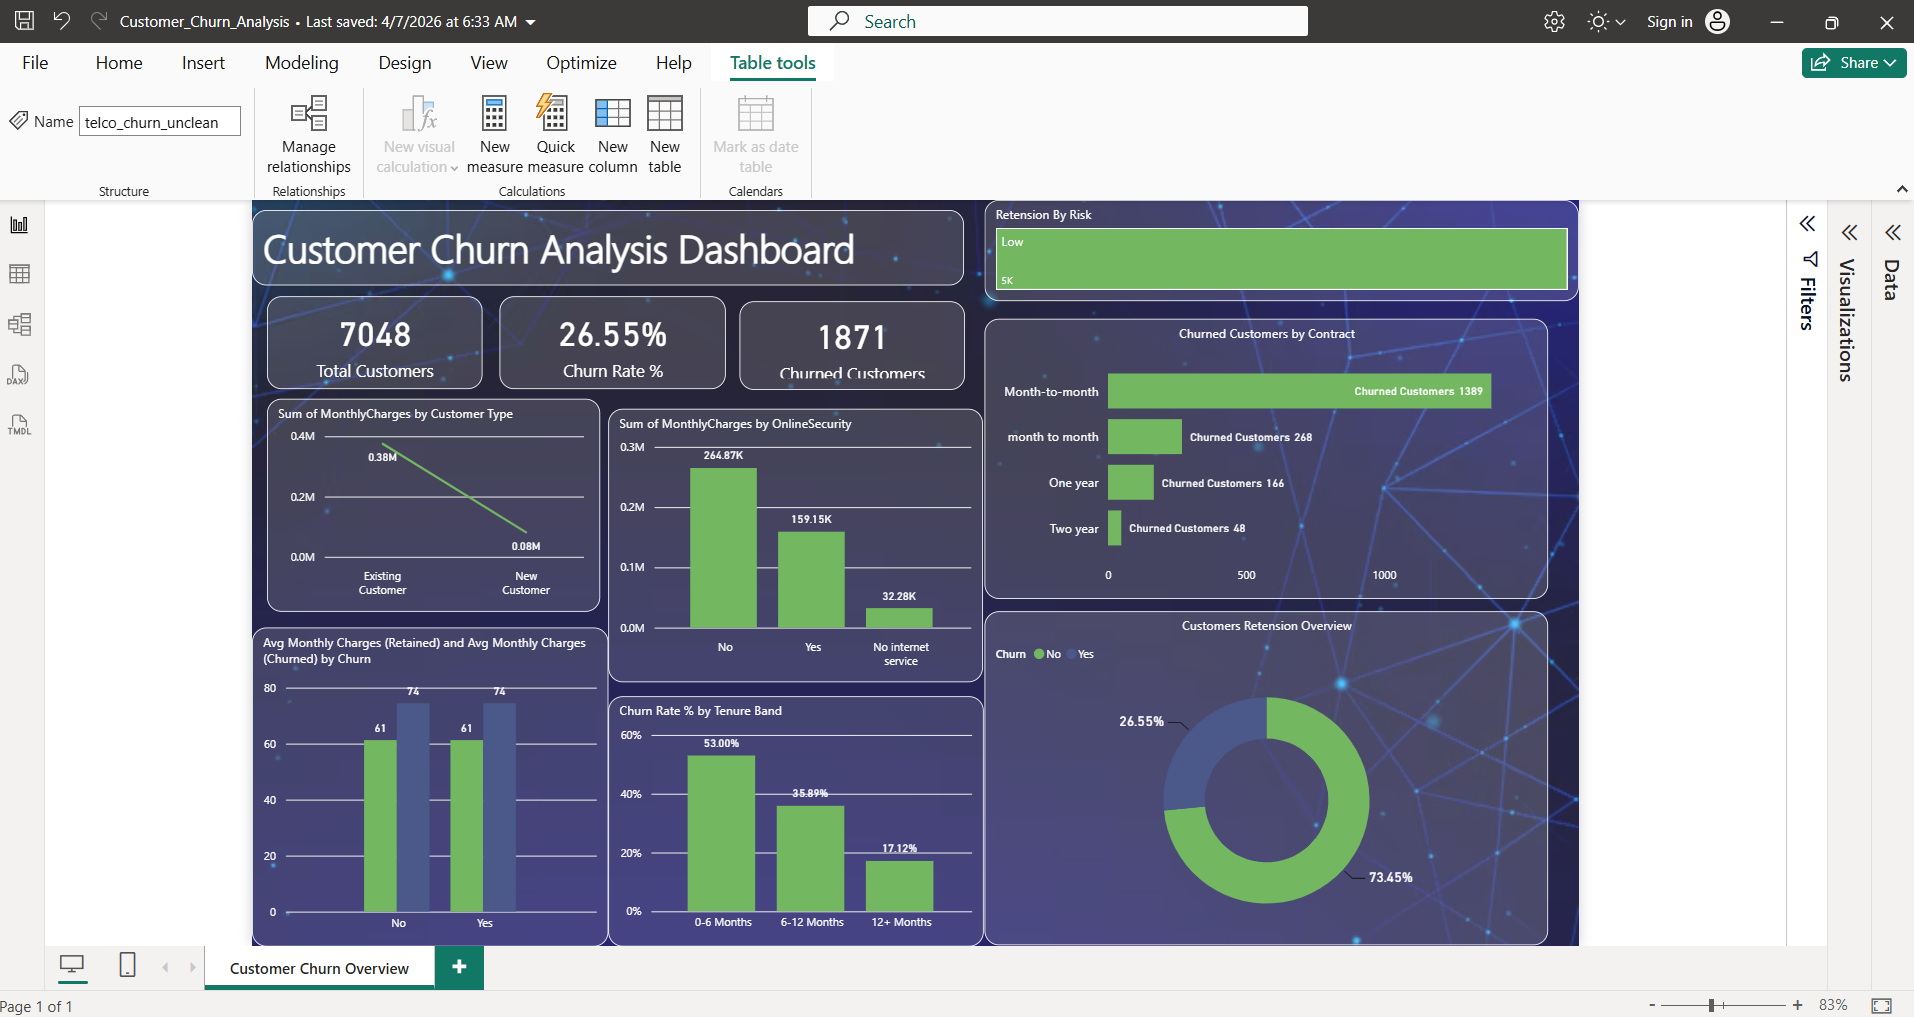

What the dashboard file says about the page in this screenshot:
{"tool":"powerbi","page":{"name":"Page 1","canvas":[1280,720],"ordinal":0},"visuals":[{"type":"textbox","box":[0,9.6,687.5,72.7],"z":0},{"type":"card","fields":{"Values":["Calculated Measure.Total Customers"]},"box":[14.7,93.3,208,89.3],"z":2},{"type":"card","fields":{"Values":["Calculated Measure.Churn Rate %"]},"box":[238.7,93.3,218.7,89.3],"z":3},{"type":"card","fields":{"Values":["Calculated Measure.Churned Customers"]},"box":[470.7,97.3,217.3,85.3],"z":4},{"type":"donutChart","title":"Customers Retension Overview","fields":{"Category":["telco_churn_unclean.Churn"],"Y":["Calculated Measure.Total Customers"]},"box":[706.7,397.3,544,322.7],"z":5},{"type":"barChart","fields":{"Category":["telco_churn_unclean.Contract"],"Y":["Calculated Measure.Churned Customers"]},"box":[706.7,114.7,544,270.7],"z":6},{"type":"columnChart","fields":{"Category":["telco_churn_unclean.OnlineSecurity"],"Y":["Sum(telco_churn_unclean.MonthlyCharges)"]},"box":[344,201.3,361.3,264],"z":7},{"type":"columnChart","fields":{"Category":["telco_churn_unclean.Tenure Band"],"Y":["Calculated Measure.Churn Rate %"]},"box":[344,478.7,362.7,241.3],"z":8},{"type":"clusteredColumnChart","fields":{"Category":["telco_churn_unclean.Churn"],"Y":["Calculated Measure.Avg Monthly Charges (Retained)","Calculated Measure.Avg Monthly Charges (Churned)"]},"box":[0,412,344,308],"z":9},{"type":"lineChart","fields":{"Category":["telco_churn_unclean.Customer Type"],"Y":["Sum(telco_churn_unclean.MonthlyCharges)"]},"box":[14.7,192,321.3,205.3],"z":10},{"type":"treemap","title":"Retension By Risk","fields":{"Group":["telco_churn_unclean.Risk type"],"Values":["Calculated Measure.Retained Customers"]},"box":[706.7,0,573.3,97.3],"z":11}]}

Visuals, with their boxes on the page's 1280x720 design canvas (x1, y1, x2, y2). These are canvas units, not pixel positions in the 1914x1017 screenshot, which may show the page scaled, cropped or inside an application window:
textbox: 0/10/688/82
card - Calculated Measure.Total Customers: 15/93/223/183
card - Calculated Measure.Churn Rate %: 239/93/457/183
card - Calculated Measure.Churned Customers: 471/97/688/183
"Customers Retension Overview" donutChart: 707/397/1251/720
barChart - telco_churn_unclean.Contract x Calculated Measure.Churned Customers: 707/115/1251/385
columnChart - telco_churn_unclean.OnlineSecurity x Sum(telco_churn_unclean.MonthlyCharges): 344/201/705/465
columnChart - telco_churn_unclean.Tenure Band x Calculated Measure.Churn Rate %: 344/479/707/720
clusteredColumnChart - telco_churn_unclean.Churn x Calculated Measure.Avg Monthly Charges (Retained): 0/412/344/720
lineChart - telco_churn_unclean.Customer Type x Sum(telco_churn_unclean.MonthlyCharges): 15/192/336/397
"Retension By Risk" treemap: 707/0/1280/97
